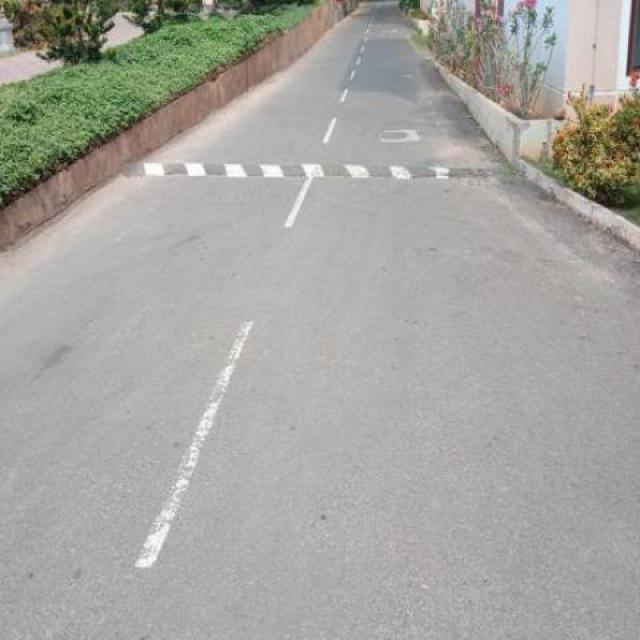Manhole: (378, 124, 421, 144)
Speed Bump: (126, 158, 503, 178)
